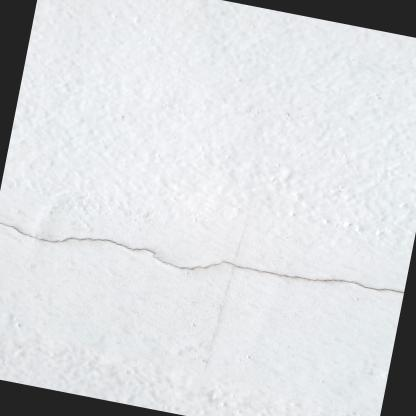crack: (0, 221, 404, 292)
